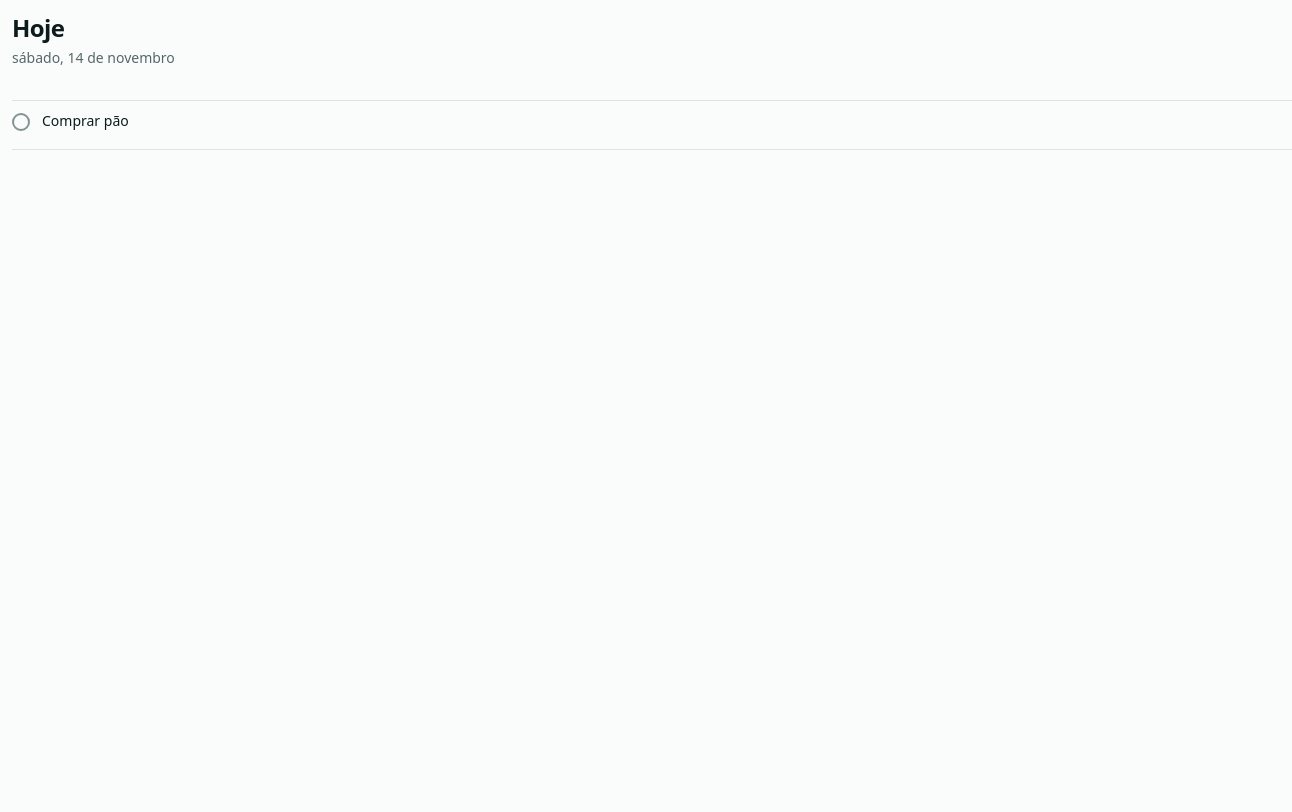
TodayPage › concluir remove a tarefa de imediato e permite desfazer
Click the checkbox named "Concluir \"Comprar pão\"".
click(21, 122)  # box [12,113,30,131]
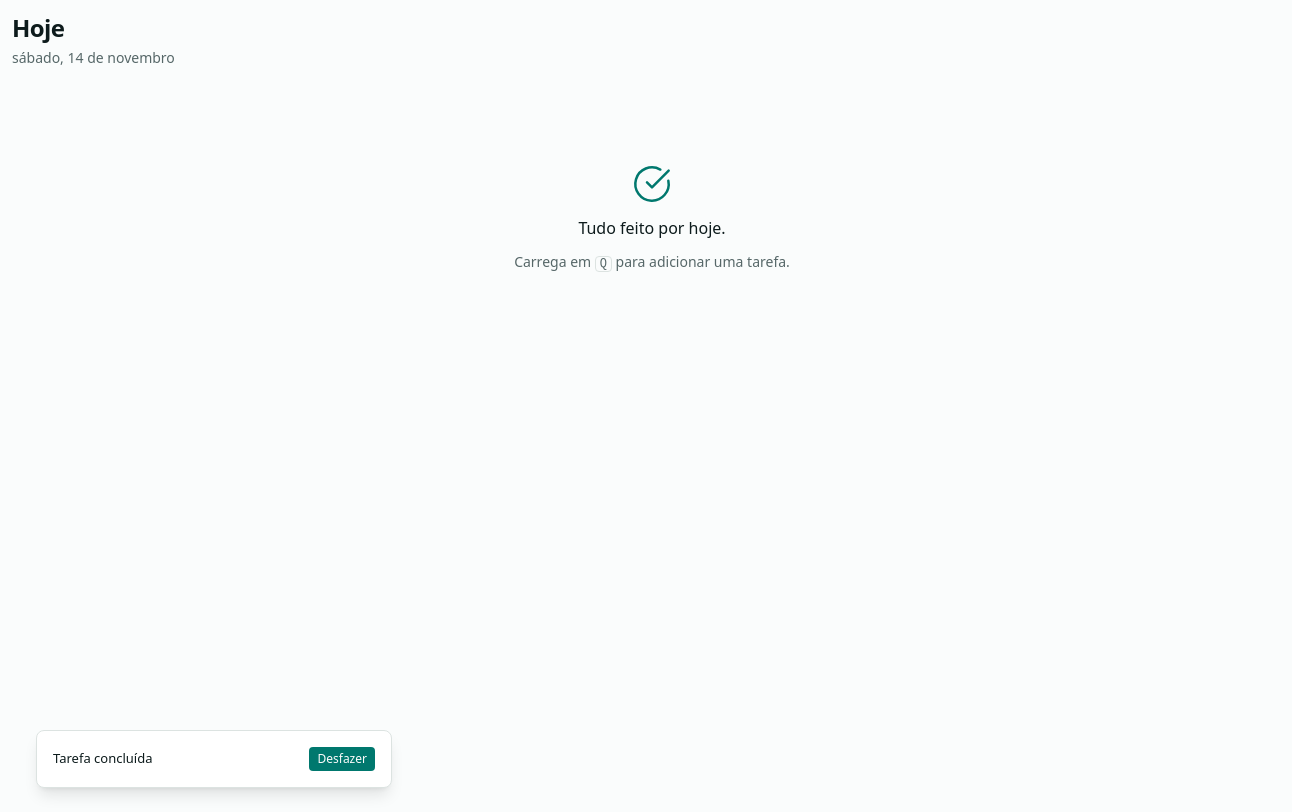
Result: the text "Comprar pão" is gone
Result: the text "Tarefa concluída" is shown at [53,749,152,769]
Click the button "Desfazer".
click(342, 759)  # box [310,747,375,771]
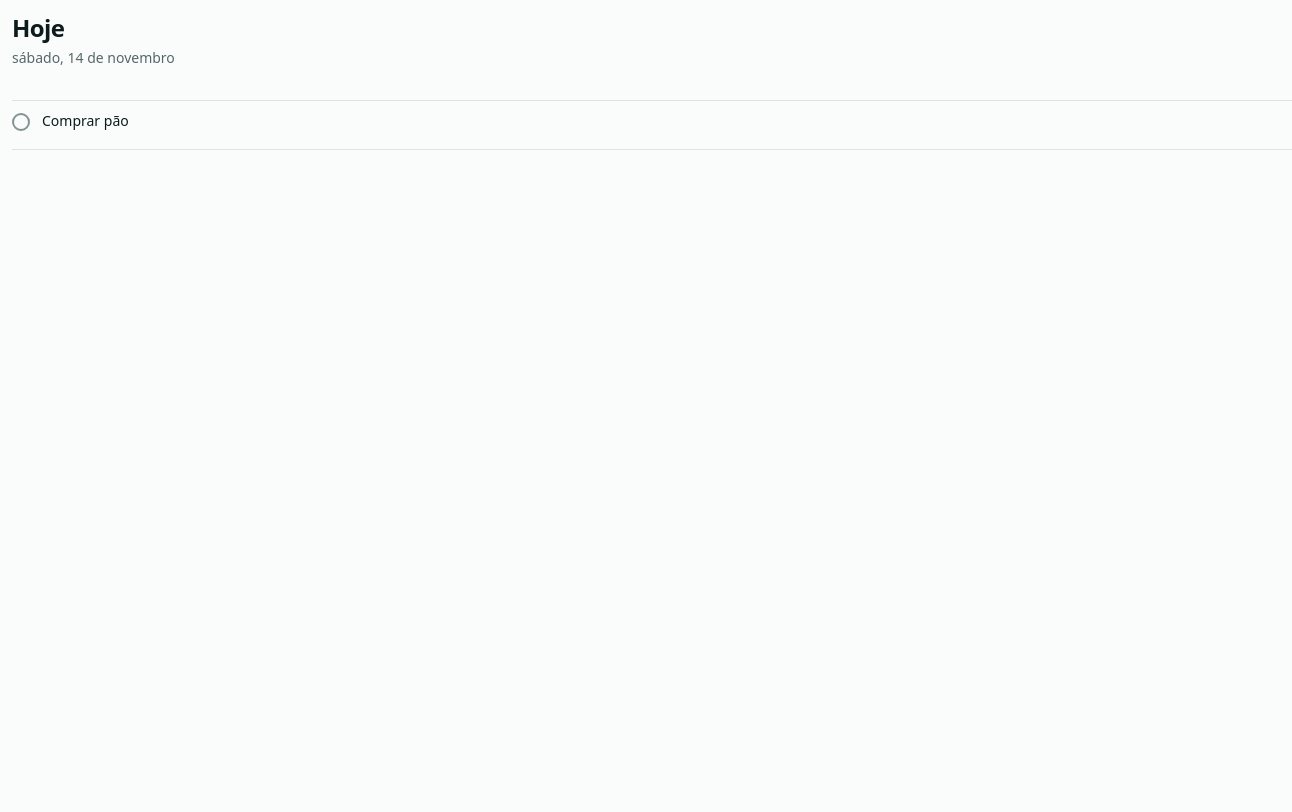
Result: the text "Comprar pão" is shown at [42,111,129,130]
